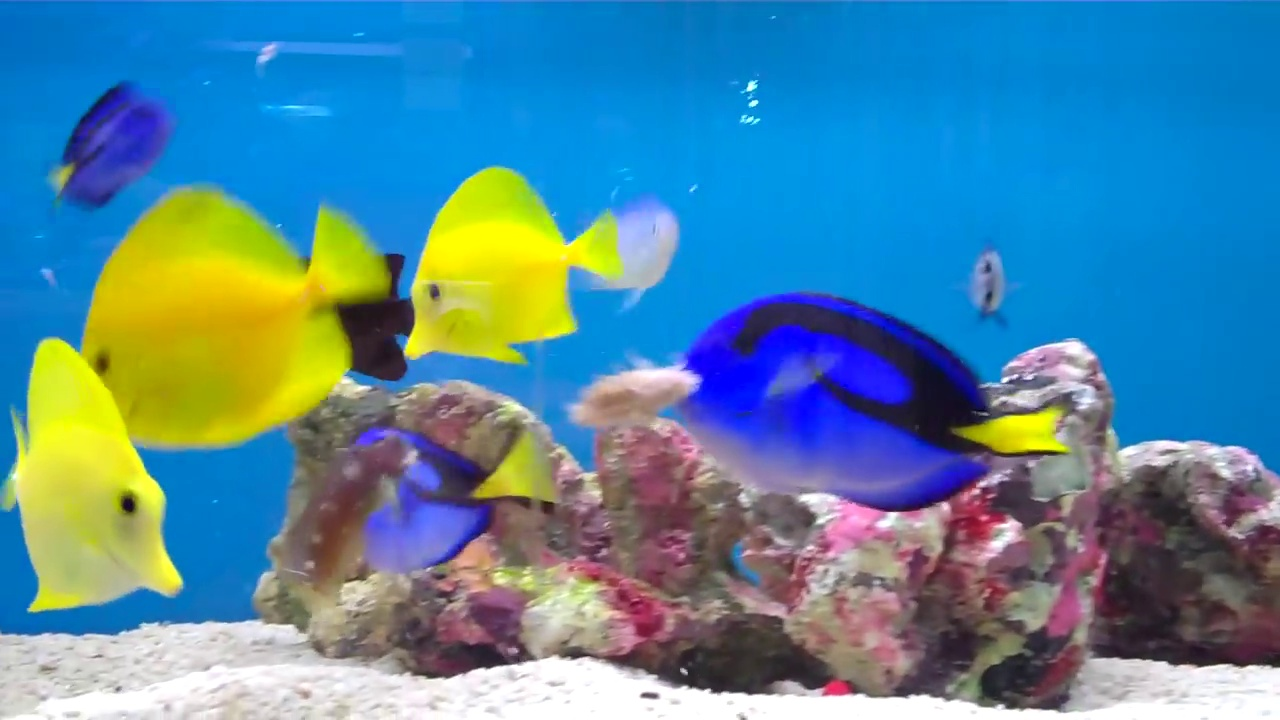blue tang surgeonfish: (664, 276, 1075, 536), (50, 80, 175, 210)
saddle butterfly fish: (59, 179, 373, 437), (0, 345, 203, 619), (392, 158, 621, 373)
